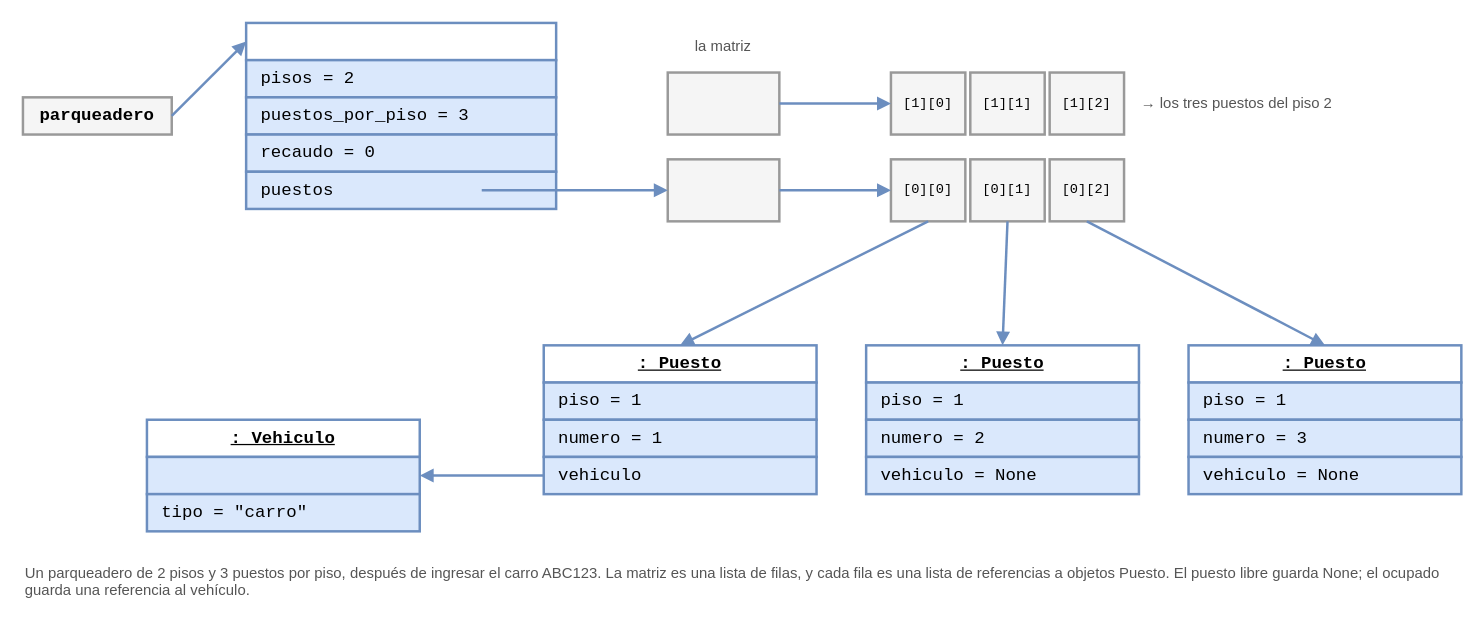
Image size: 1483x634. Some labels were removed from this diagram. Here are the shapes that lost their labels. From the top down, the box of each, then its label:
(244, 21, 557, 61): : Parqueadero
(666, 71, 780, 135): fila 1
(666, 157, 780, 222): fila 0
(145, 455, 420, 495): placa = "ABC123"
